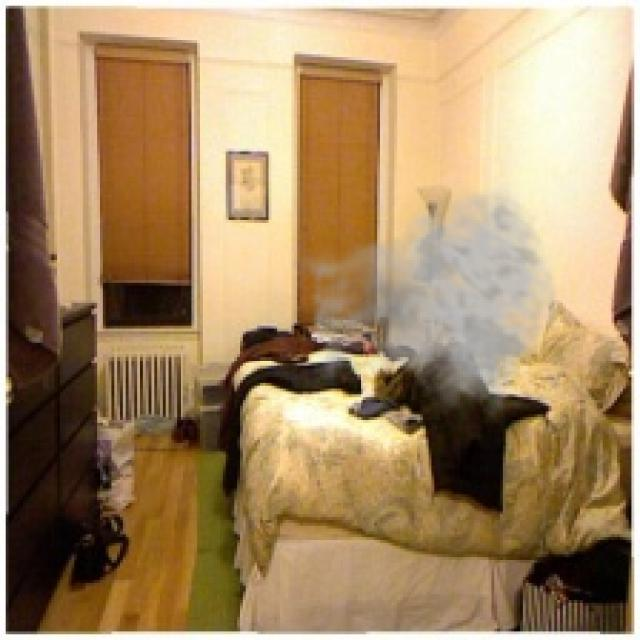smoke: (291, 180, 560, 423)
